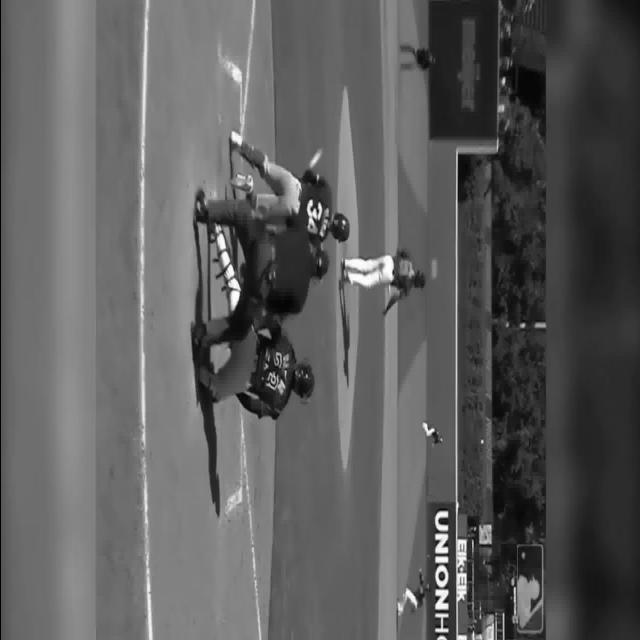baseball: (479, 438, 484, 450)
bat: (308, 147, 322, 169)
shoe: (229, 172, 253, 192), (194, 189, 207, 223), (191, 320, 205, 348), (207, 221, 222, 243), (197, 364, 210, 389), (228, 130, 242, 148), (397, 599, 402, 615)
